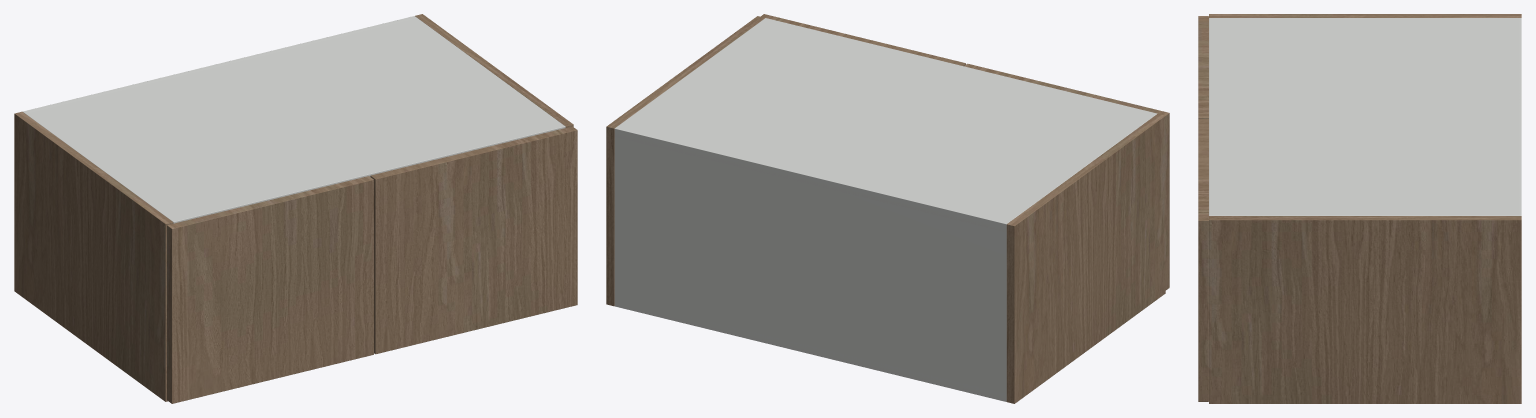
The model's file is oppein-pb-mnw-w361524.glb.
The picture shows the model from 3 angles, left to right: view 1: azimuth 30°, elevation 25°; view 2: azimuth 150°, elevation 25°; view 3: azimuth 270°, elevation 25°; orthographic projection. The views are drawn at different scales.
Visible parts, largest first — view 1: Cabinet top, Door, Door.001, Cabinet side, Cabinet side.001, Cabinet back; view 2: Cabinet back, Cabinet top, Cabinet side, Cabinet side.001, Door, Cabinet bottom, Door.001; view 3: Cabinet top, Cabinet side.001, Door.001, Cabinet back, Cabinet side, Door.
Part boxes in pixels (x1=…): Cabinet top: x1=23, y1=16, x2=565, y2=223; Door: x1=167, y1=176, x2=373, y2=403; Door.001: x1=370, y1=126, x2=577, y2=354; Cabinet side: x1=14, y1=111, x2=173, y2=401; Cabinet side.001: x1=415, y1=14, x2=573, y2=127; Cabinet back: x1=23, y1=16, x2=416, y2=113; Cabinet back: x1=614, y1=126, x2=1006, y2=401; Cabinet top: x1=614, y1=18, x2=1157, y2=231; Cabinet side: x1=1006, y1=113, x2=1165, y2=403; Cabinet side.001: x1=606, y1=16, x2=764, y2=306; Door: x1=964, y1=63, x2=1169, y2=290; Cabinet bottom: x1=616, y1=306, x2=1005, y2=401; Door.001: x1=761, y1=14, x2=965, y2=66; Cabinet top: x1=1209, y1=18, x2=1521, y2=215; Cabinet side.001: x1=1209, y1=216, x2=1521, y2=403; Door.001: x1=1198, y1=119, x2=1208, y2=401; Cabinet back: x1=1515, y1=18, x2=1521, y2=215; Cabinet side: x1=1209, y1=14, x2=1521, y2=17; Door: x1=1198, y1=16, x2=1208, y2=118.
Bounding box in the file's own units: 0.9144 × 0.381 × 0.6064.
Materials: 2 (1 with a texture image).
